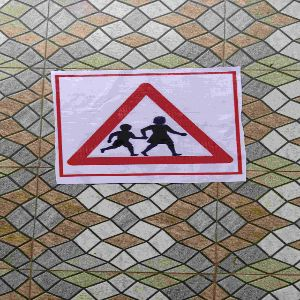schools: (59, 80, 238, 175)
